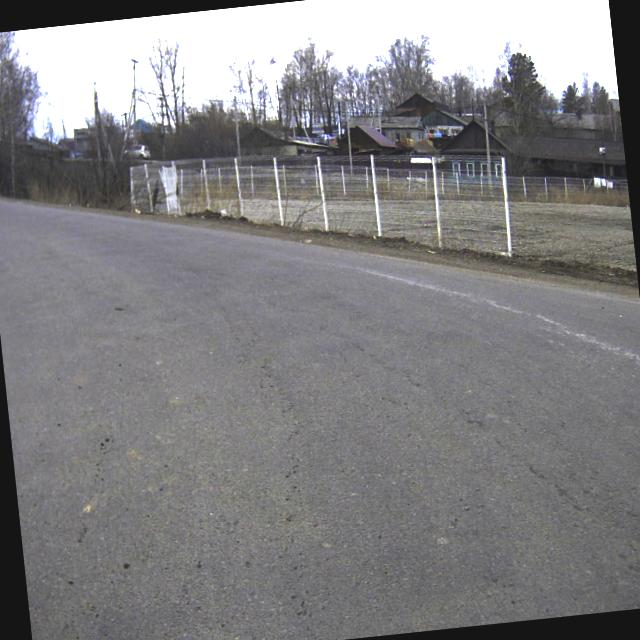road: (0, 201, 640, 640)
